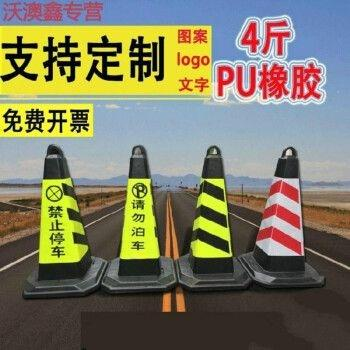cone_barrel: (25, 146, 96, 293), (247, 147, 317, 283), (183, 143, 243, 284), (108, 145, 166, 281)
